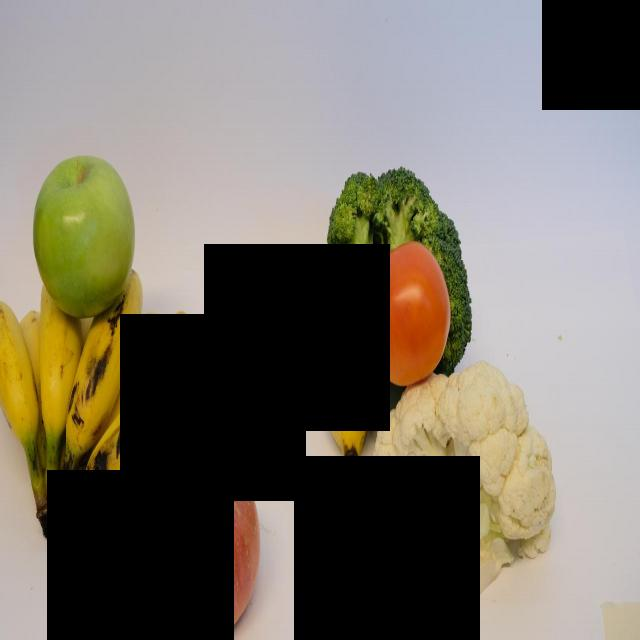apple: (148, 458, 266, 637), (31, 152, 136, 312)
banana: (215, 262, 368, 472), (84, 305, 202, 513), (68, 260, 148, 448), (0, 295, 46, 492), (34, 274, 82, 462)
broccoli: (325, 164, 472, 410)
cauliflower: (371, 360, 558, 599)
tomato: (366, 238, 448, 388)
